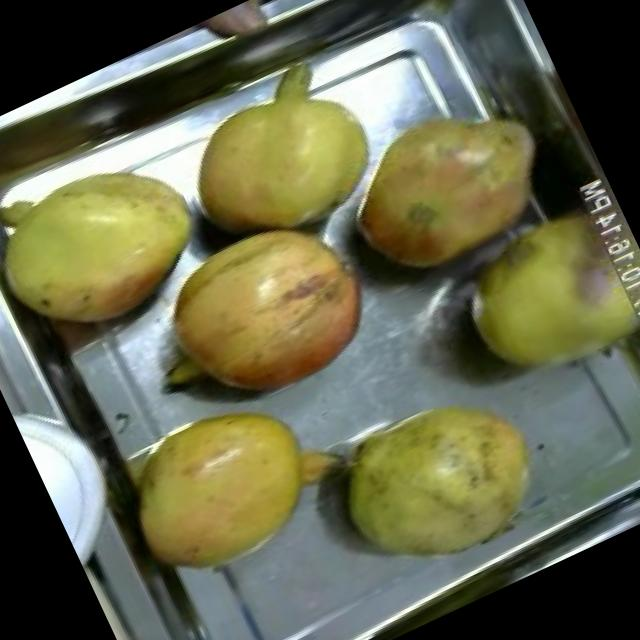fruit: (108, 186, 404, 452), (302, 353, 586, 608), (91, 360, 360, 609), (312, 67, 580, 306), (156, 49, 406, 278), (425, 173, 640, 431), (0, 128, 230, 366)
